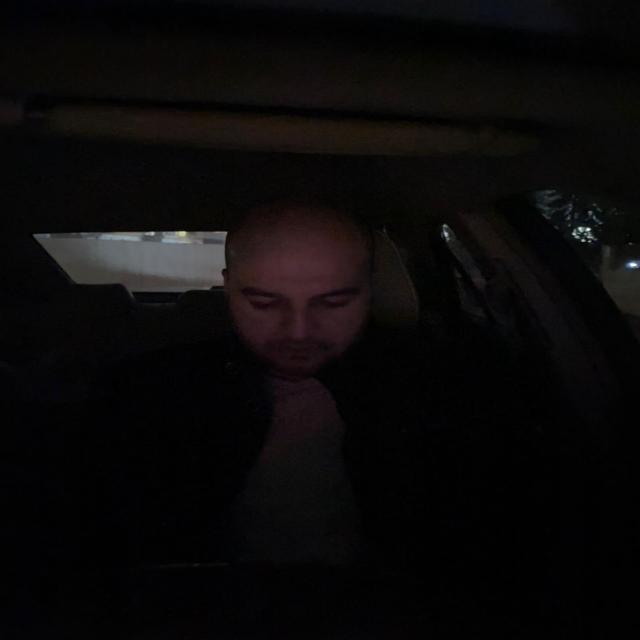drowsy: (222, 213, 372, 373)
